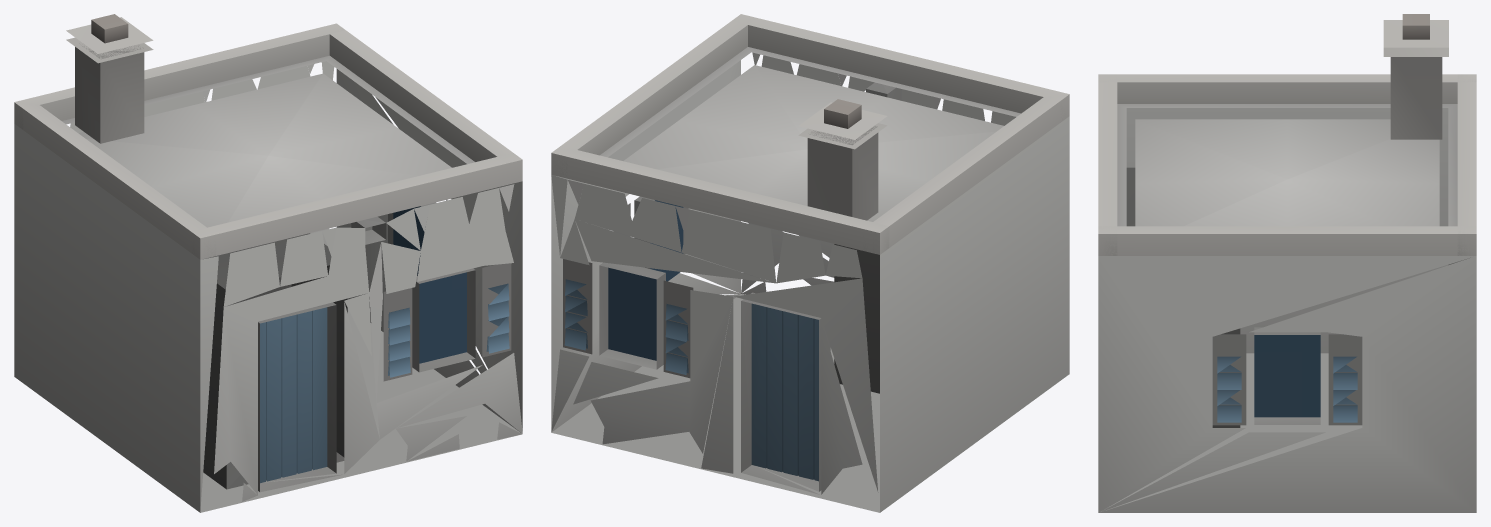
3 renders of one model, left to right at view 1: azimuth 30°, elevation 25°; view 2: azimuth 150°, elevation 25°; view 3: azimuth 270°, elevation 25°, orthographic.
Visible parts, largest first — view 1: cube1; view 2: cube1; view 3: cube1.
Boxes of the visible parts, <box> form: cube1: <box>14,14,522,512</box>; cube1: <box>551,14,1069,512</box>; cube1: <box>1098,14,1476,512</box>.
Size of the model in its own units: 4.4 by 4.7 by 4.4.
